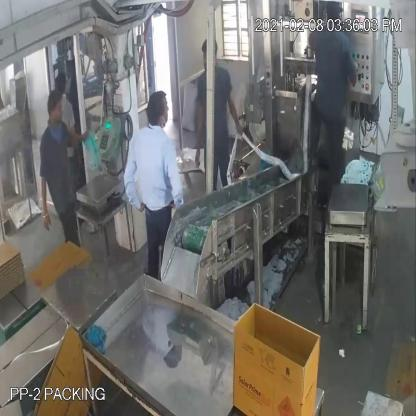no_glove: (116, 139, 152, 220), (185, 91, 209, 170), (162, 143, 185, 214), (34, 165, 53, 234), (221, 82, 242, 135), (61, 122, 92, 150)
